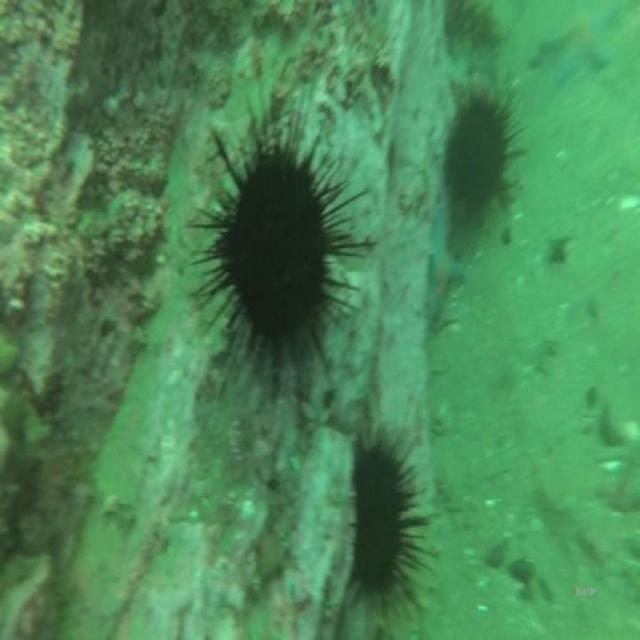echinus: (205, 107, 355, 389), (442, 84, 514, 242), (348, 440, 412, 600)
holothurian: (372, 488, 444, 640)
starfish: (538, 2, 629, 88), (422, 207, 468, 332)
